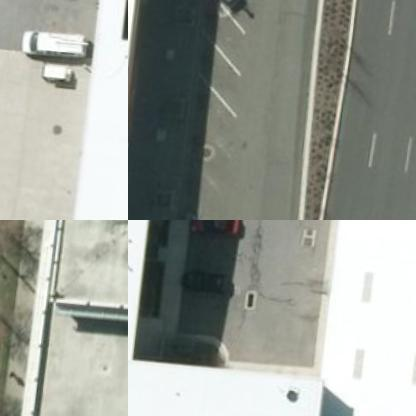car: (22, 22, 94, 68), (183, 268, 241, 298), (191, 220, 250, 240)
